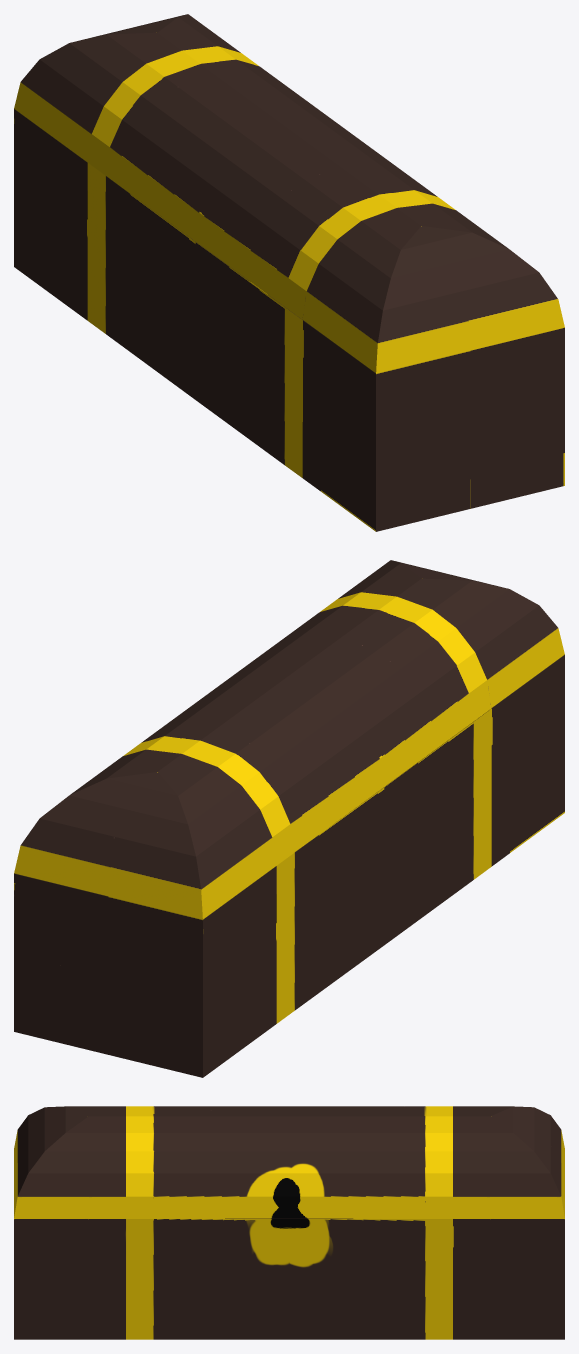
Rendered from sandık.fbx.
The picture shows the model from 3 angles, top to bottom: view 1: azimuth 30°, elevation 25°; view 2: azimuth 150°, elevation 25°; view 3: azimuth 270°, elevation 25°; orthographic projection. The views are drawn at different scales.
Visible parts, largest first — view 1: Kapak, Sandık; view 2: Kapak, Sandık; view 3: Sandık, Kapak.
Boxes of the visible parts, x1=… form: Kapak: x1=14, y1=14, x2=564, y2=373; Sandık: x1=14, y1=109, x2=564, y2=531; Kapak: x1=14, y1=560, x2=564, y2=919; Sandık: x1=14, y1=655, x2=564, y2=1077; Sandık: x1=14, y1=1218, x2=564, y2=1339; Kapak: x1=14, y1=1106, x2=564, y2=1218.
Bounding box in the file's own units: 0.1692 × 0.2117 × 0.5617.
1 material, 1 textured.
